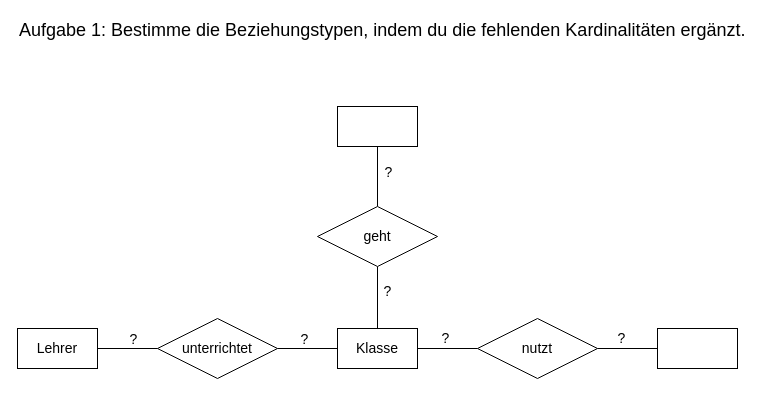
Some shapes in this 770 by 396 pixel diagram are drawn without their labels. The centre of each missing label's shape, as x and y in pixels:
"Raum" goes at [697,348].
"Schüler" goes at [377,126].
